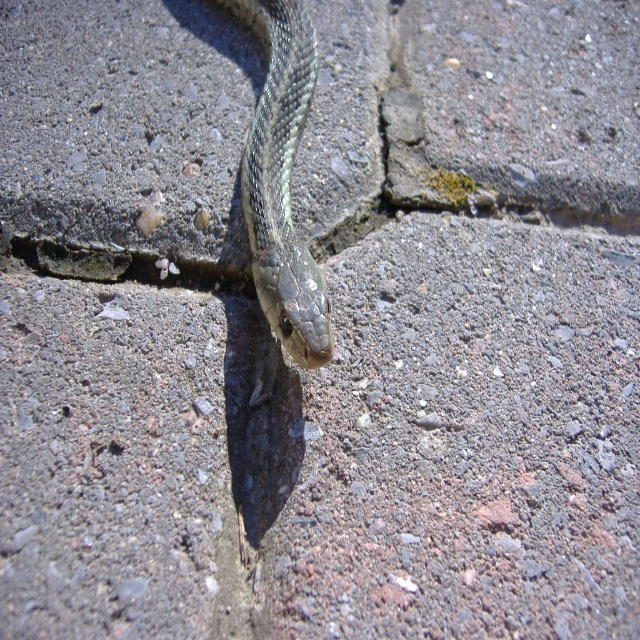Snake: (215, 0, 333, 367)
